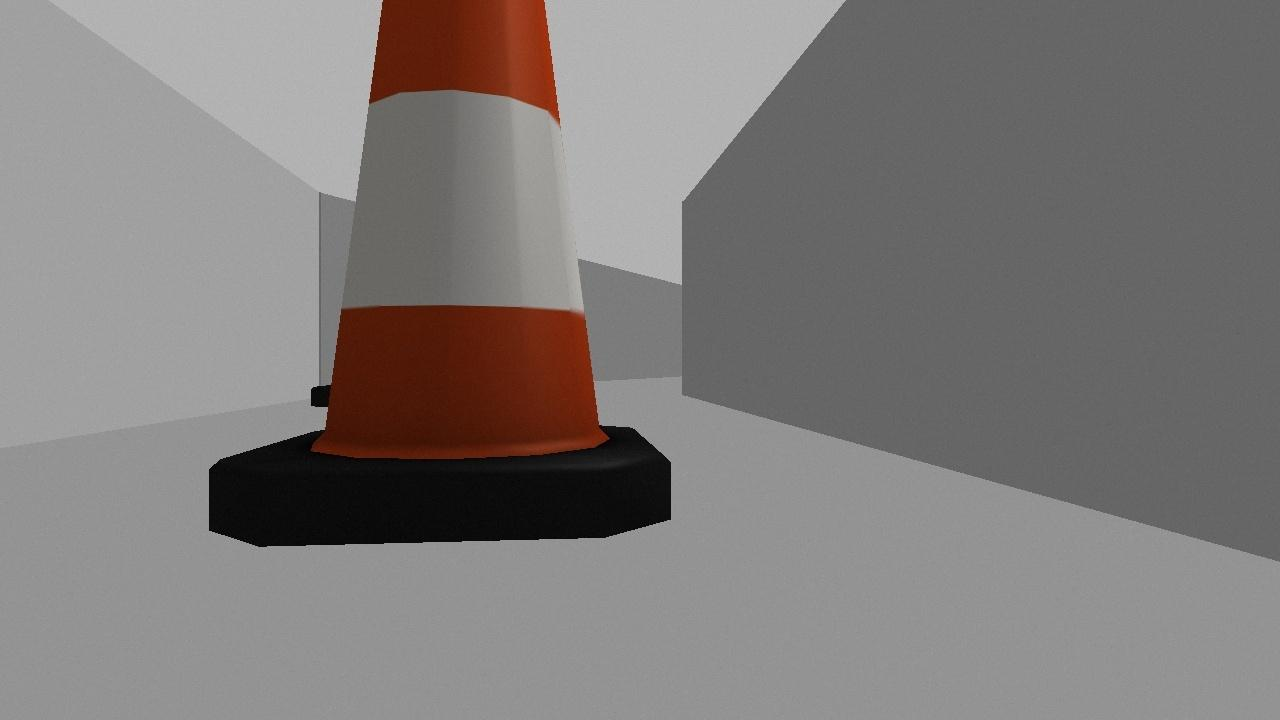cone_barrel: (182, 0, 686, 561)
